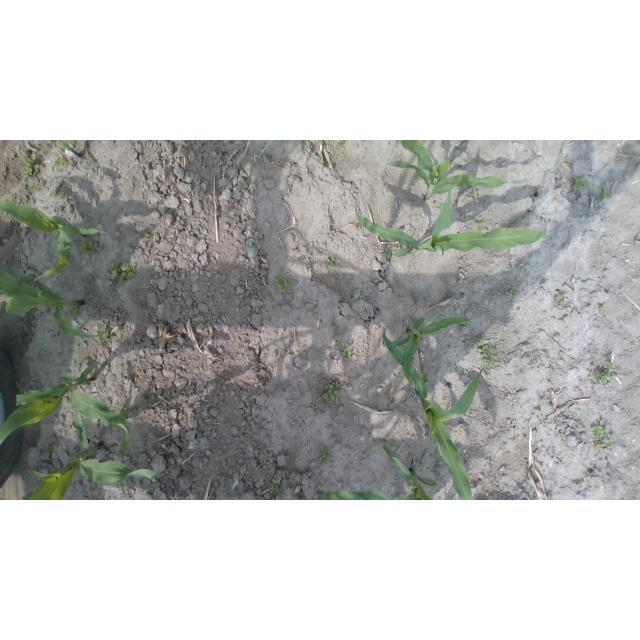Maize: (380, 328, 485, 501), (354, 179, 546, 257), (0, 360, 128, 456), (388, 140, 529, 200), (0, 200, 106, 279), (1, 266, 108, 341), (24, 445, 156, 500), (325, 444, 436, 501), (393, 315, 471, 389), (54, 140, 81, 158)
Weeds: (108, 261, 136, 286), (76, 236, 97, 257), (479, 343, 497, 367), (321, 380, 340, 401), (24, 154, 41, 177), (96, 324, 113, 344), (592, 420, 607, 440), (276, 272, 291, 289), (573, 175, 587, 191), (318, 446, 333, 460), (593, 372, 610, 384), (51, 187, 65, 201), (553, 294, 568, 306), (120, 408, 135, 419), (327, 258, 340, 269), (341, 347, 352, 360), (603, 437, 616, 448), (504, 285, 517, 296), (271, 478, 281, 492), (606, 358, 615, 372), (55, 156, 66, 166), (470, 188, 479, 200), (472, 334, 484, 343), (599, 187, 609, 197), (594, 443, 604, 453), (564, 156, 573, 167), (419, 460, 430, 468), (30, 179, 38, 189), (476, 220, 484, 229), (600, 303, 607, 313), (144, 232, 152, 240), (542, 397, 550, 404), (336, 141, 344, 146), (316, 156, 321, 161)
